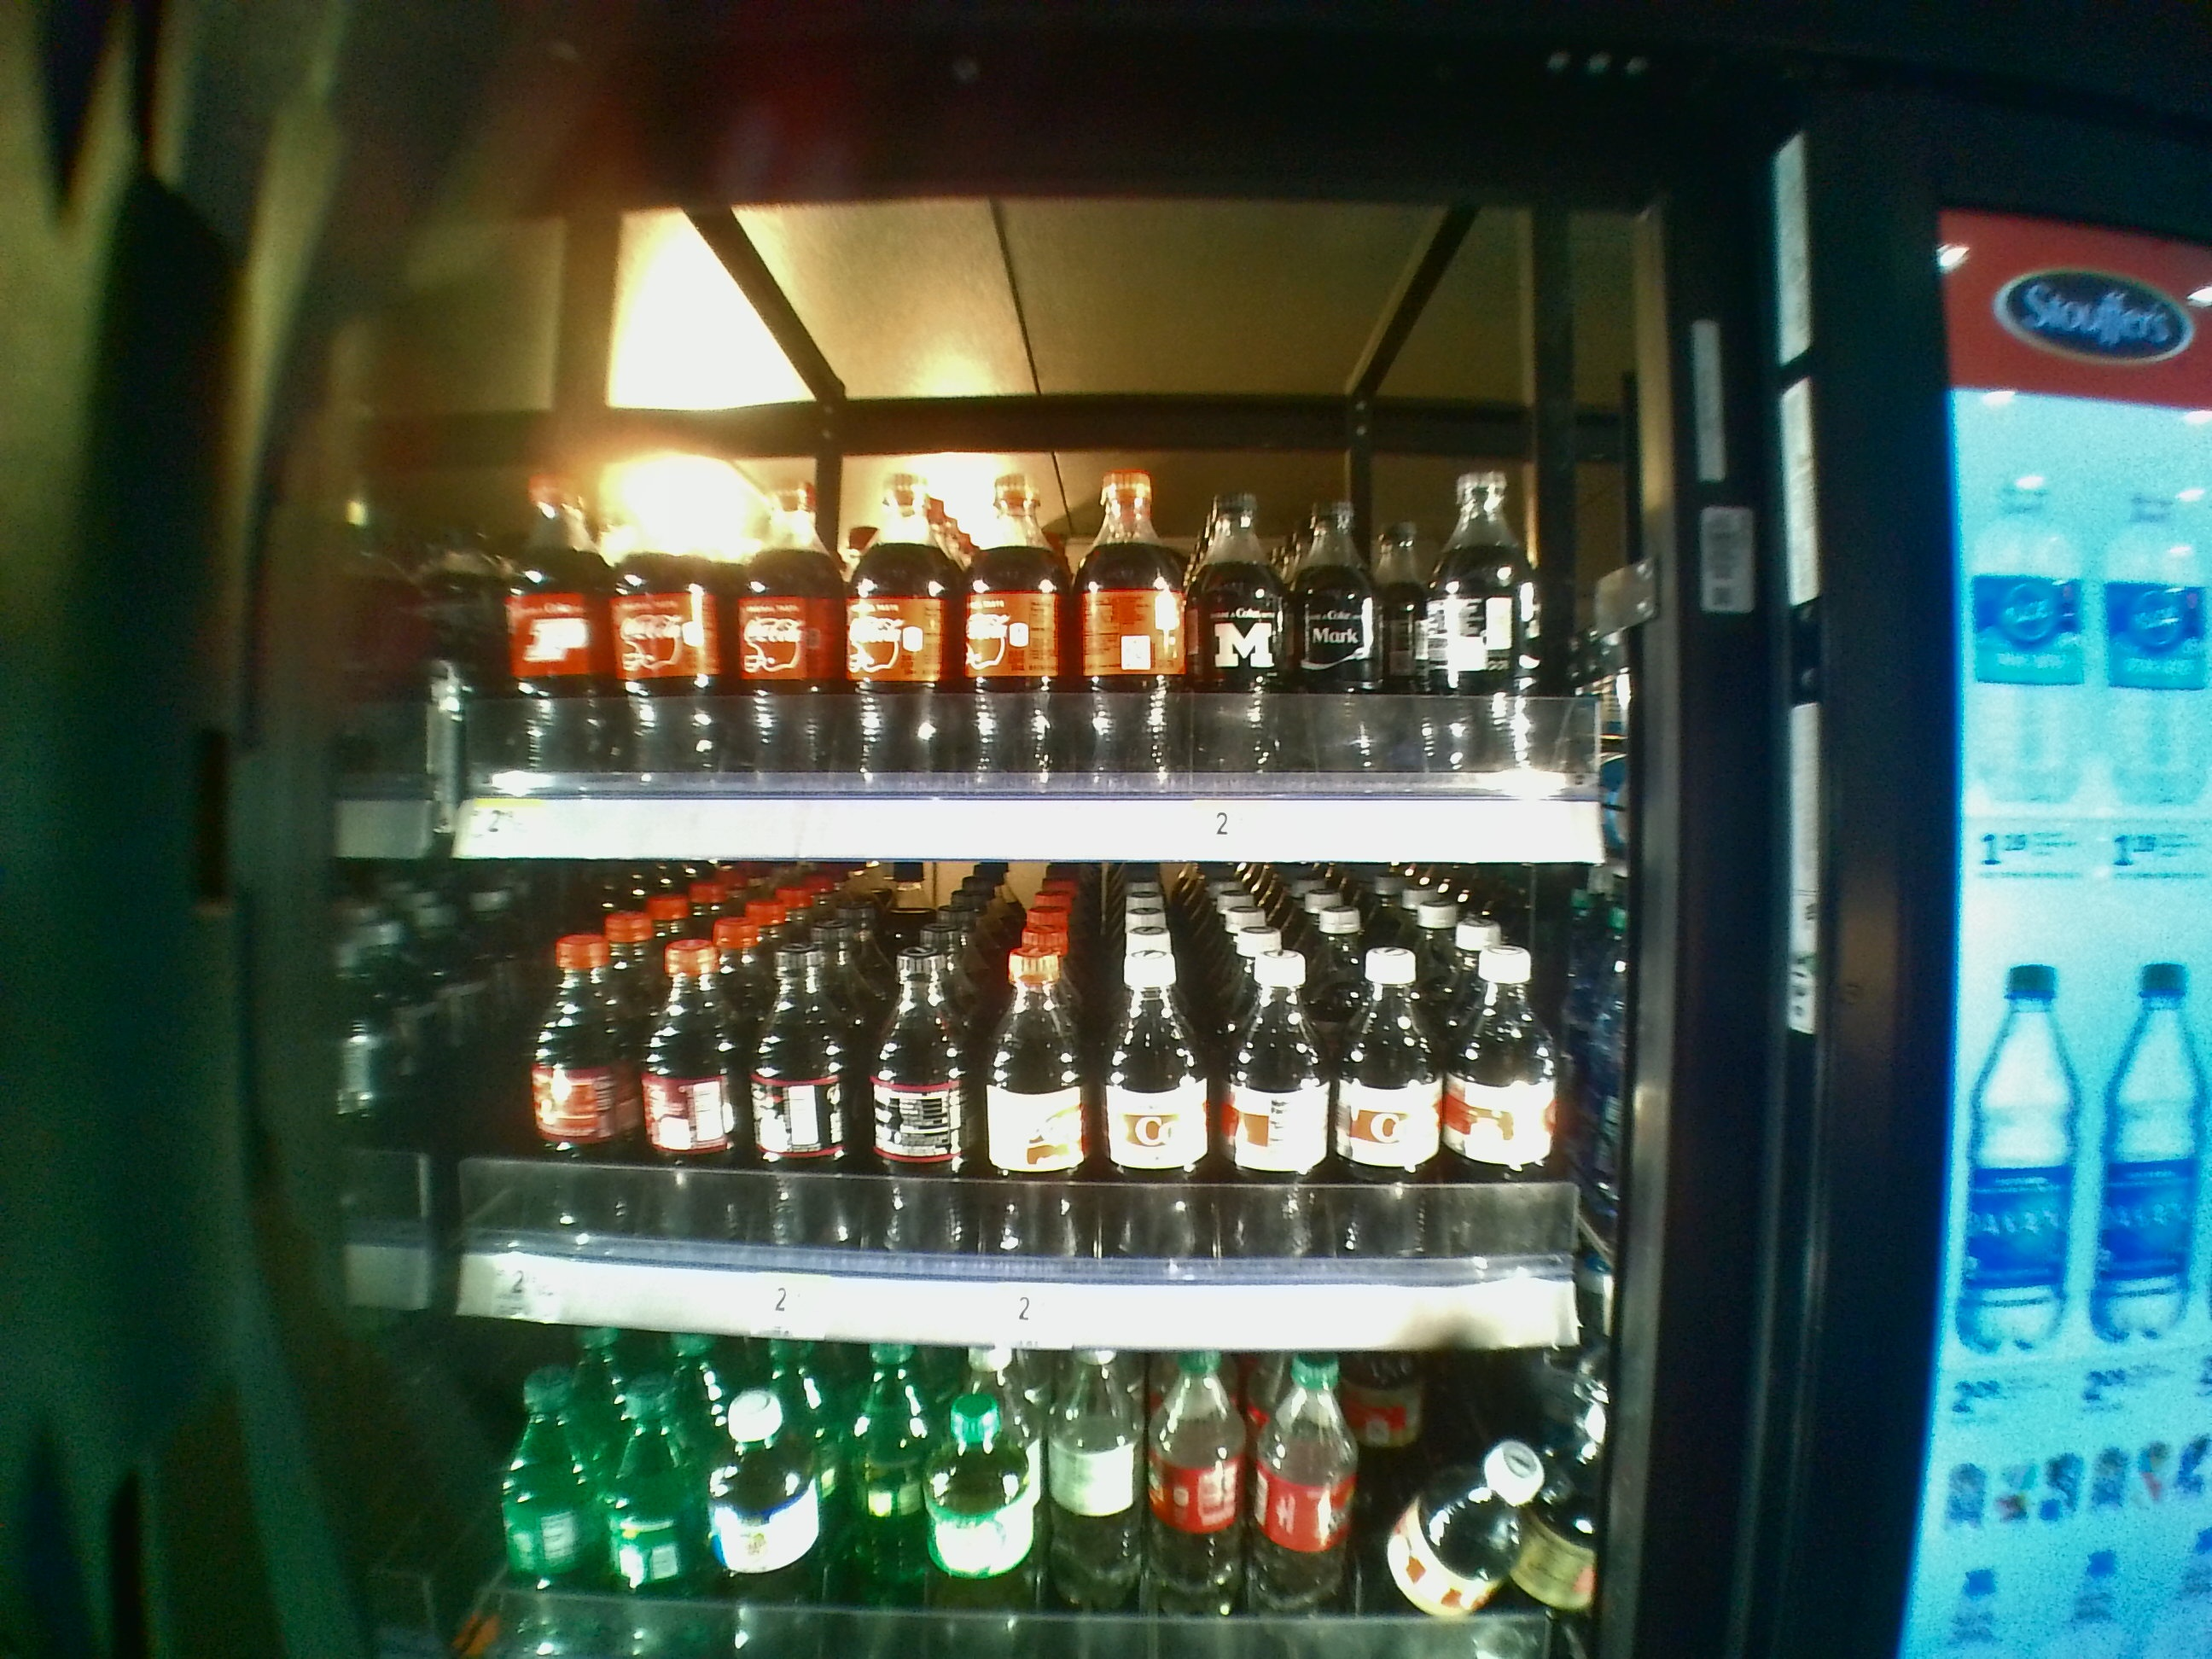shelf: (392, 204, 1639, 868), (387, 868, 1644, 1354)
